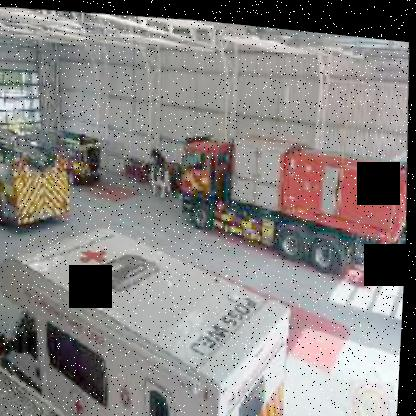emergency: (0, 220, 303, 415), (169, 117, 410, 272)
